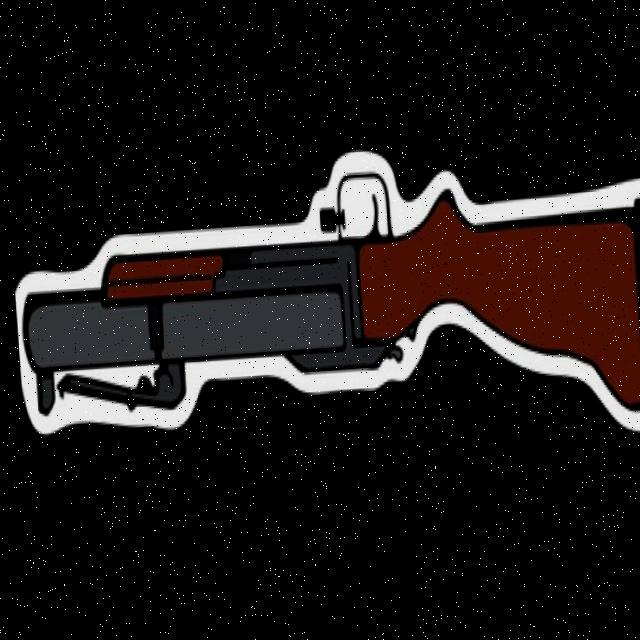rocket: (13, 159, 640, 458)
